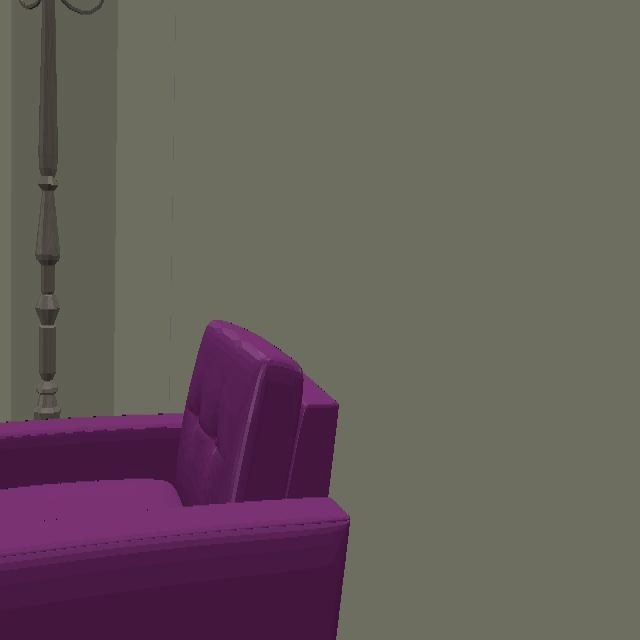sofa: (0, 322, 349, 638)
